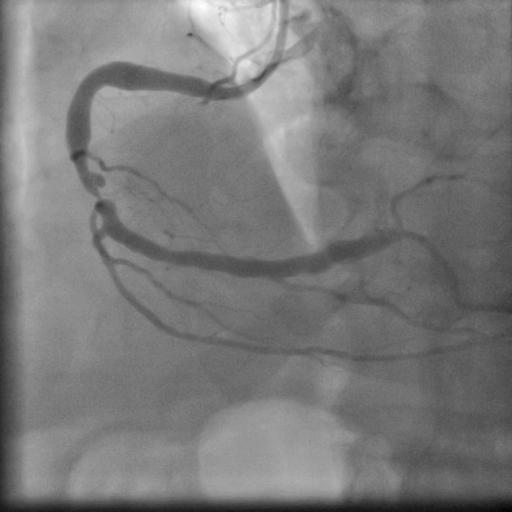Stenosis: (75, 166, 116, 208)
